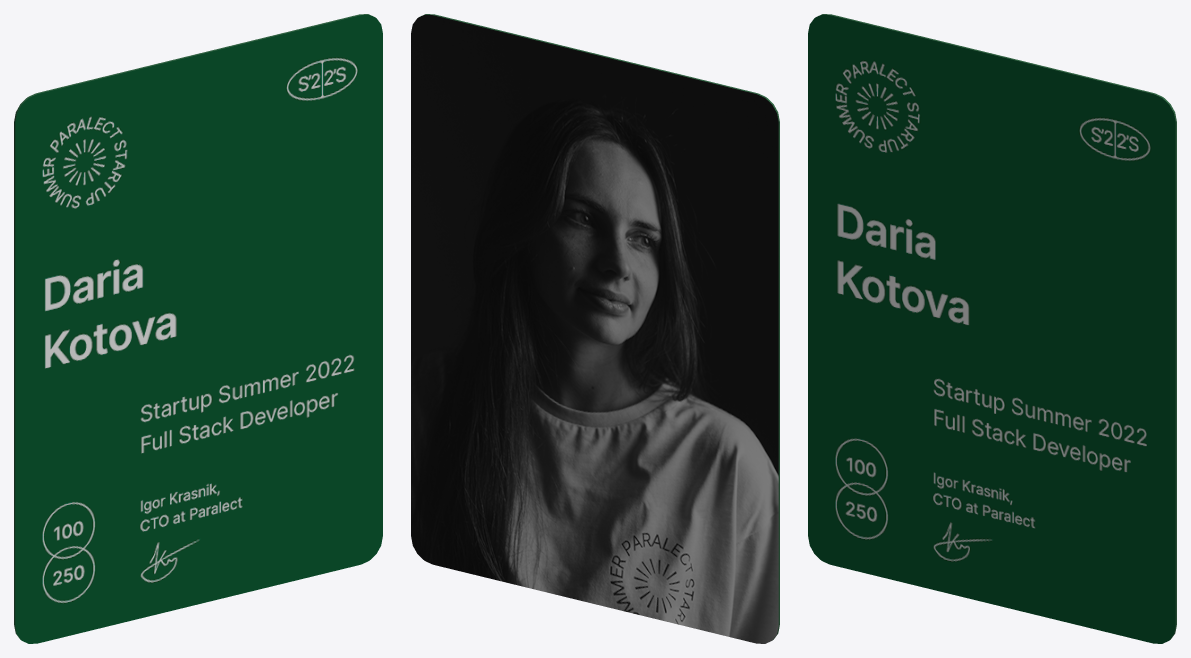
The model's file is card.glb.
3 renders of one model, left to right at view 1: azimuth 30°, elevation 25°; view 2: azimuth 150°, elevation 25°; view 3: azimuth 330°, elevation 25°, orthographic.
Parts seen in each view (by area): view 1: Plane; view 2: Plane; view 3: Plane.
Boxes of the visible parts, left/top/right/bottom form: Plane: left=14, top=14, right=382, bottom=643; Plane: left=411, top=14, right=779, bottom=643; Plane: left=808, top=14, right=1176, bottom=643.
Bounding box in the file's own units: 0.07 × 0.1 × 0.000396.
Materials: 3 (2 with a texture image).
